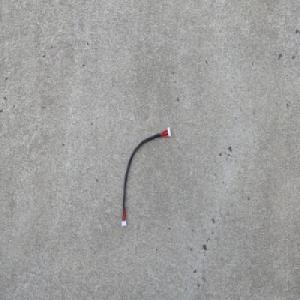Wire: (120, 125, 172, 228)
